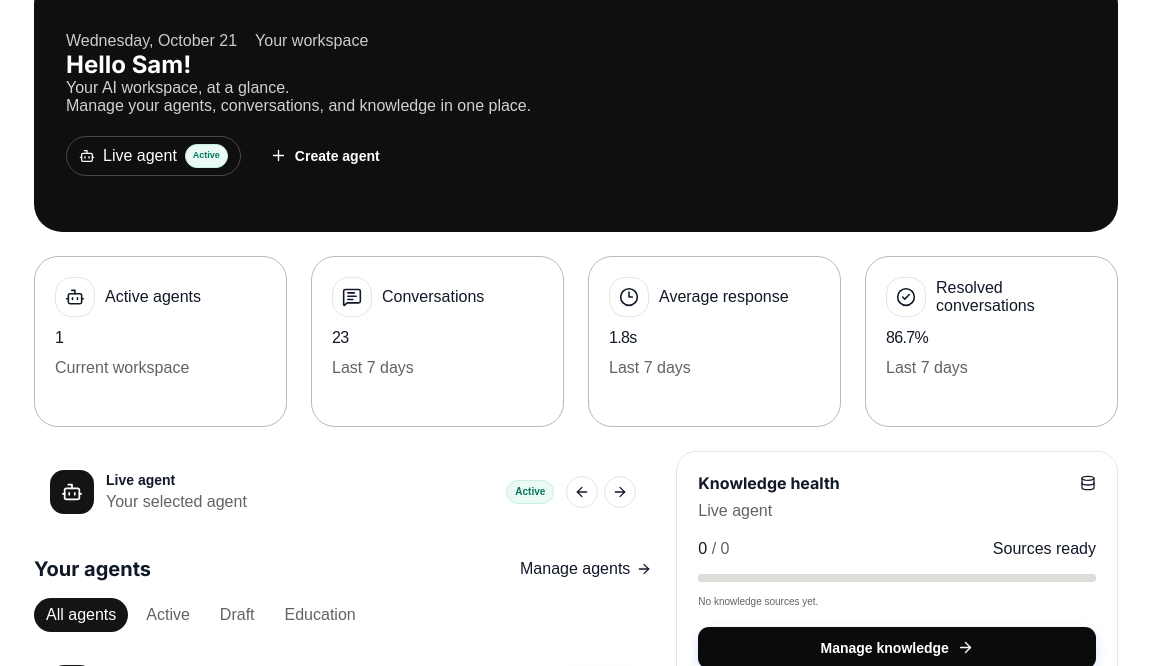
Test case: PDF dashboard interactions › filters agents, changes the featured agent and fetches monthly statistics
The width and height of the screenshot is (1152, 666).
Click the button named "Next agent": (620, 492) [604,476,636,508]
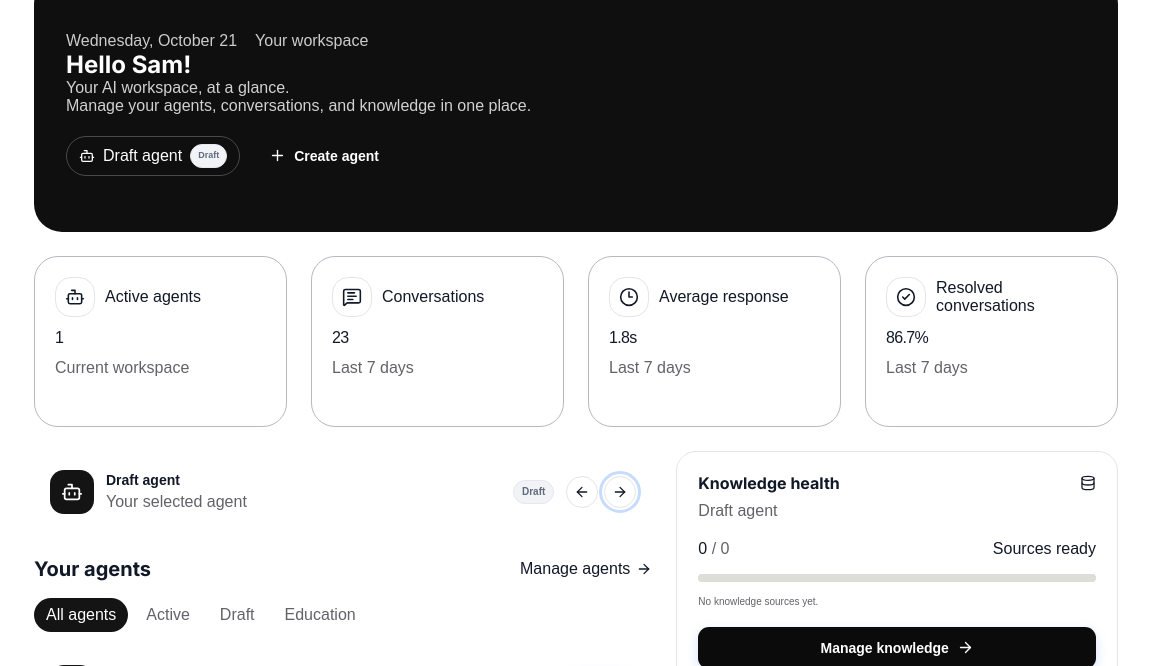
Now the link with aria-label "Continue with Draft agent" has attribute href="/agents/draft-agent/instructions", box [50,470,554,514]
Click the button "Draft": (237, 615) [208,598,266,632]
(page scrolled)
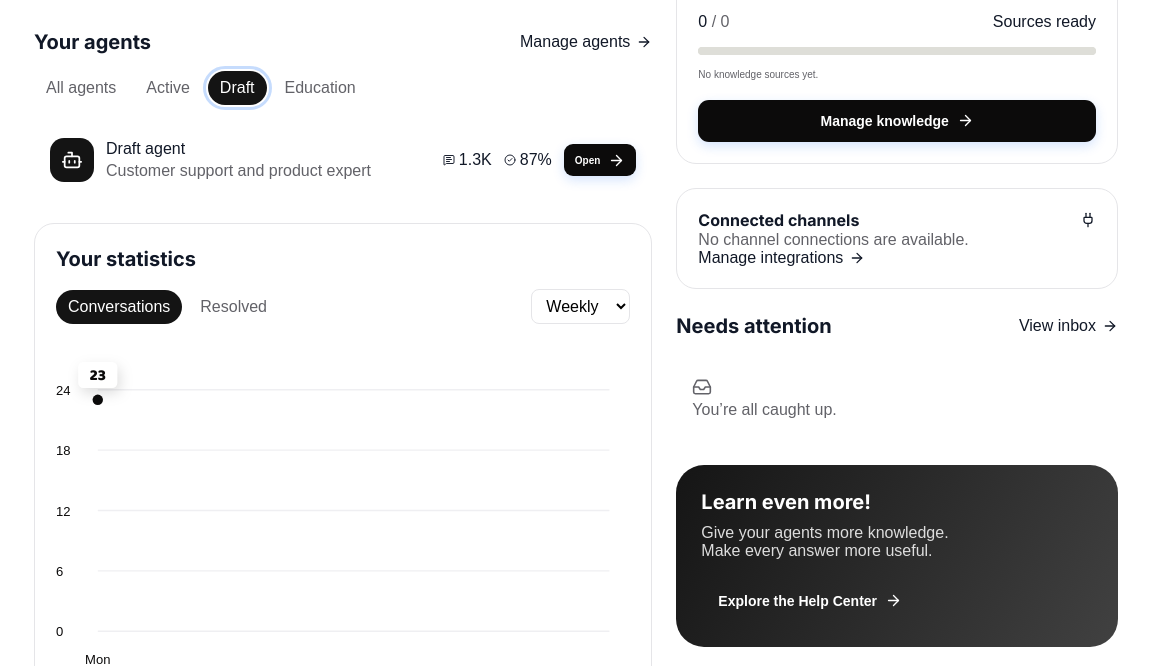
Expected: the link with aria-label "Open Draft agent" is shown, [564,144,636,176]
Select "Monthly" in the dropdown named "Chart period": (581, 306) [531,289,630,324]
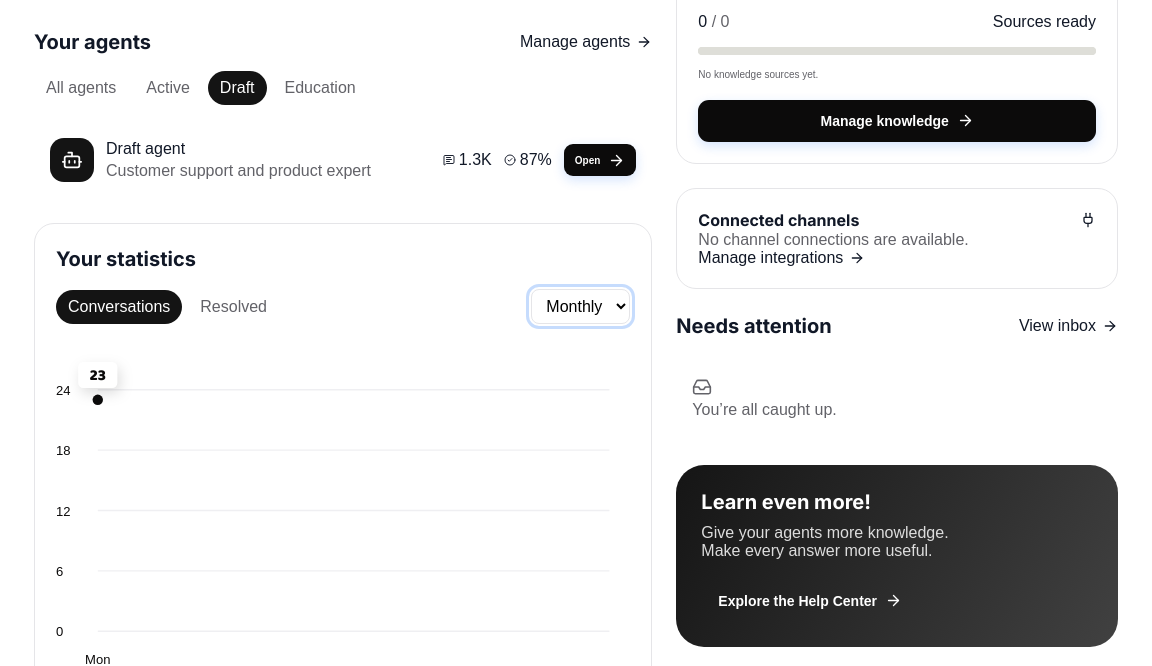
Click the button "Resolved": (234, 306) [188,290,279,324]
(page scrolled)
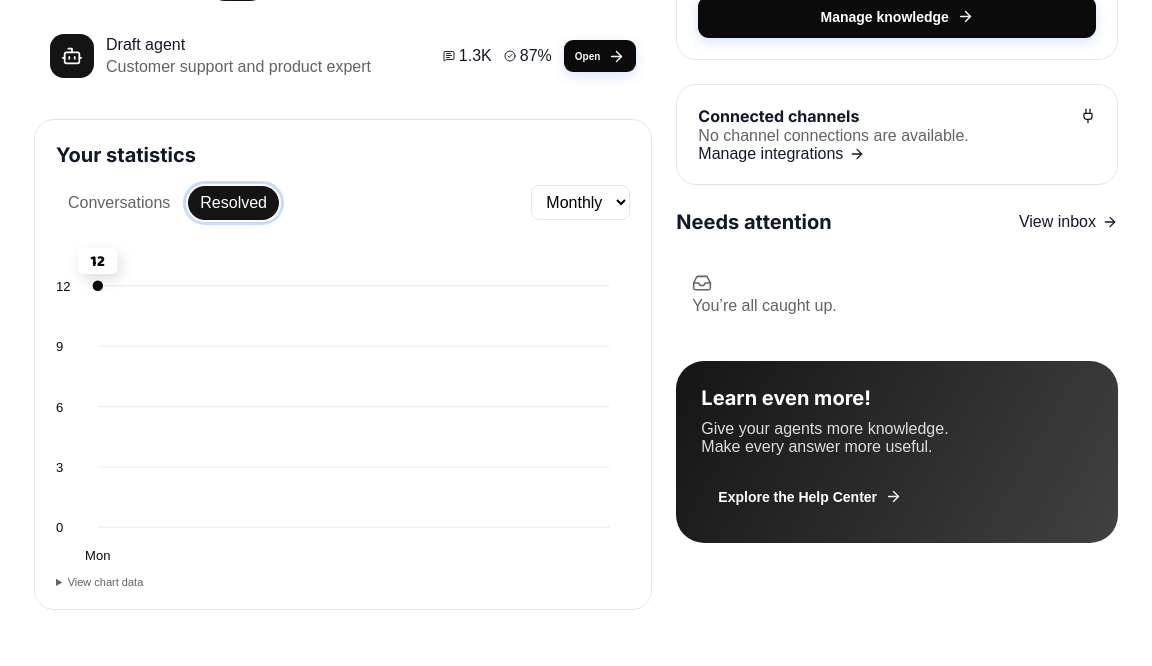
Now the picture named "Resolved conversations trend" is shown, box [56,244,630,564]
